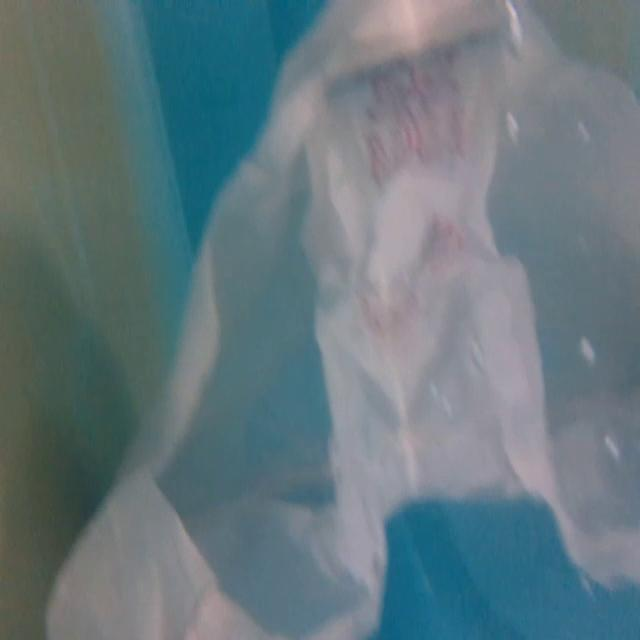plastic bags: (44, 3, 640, 640)
